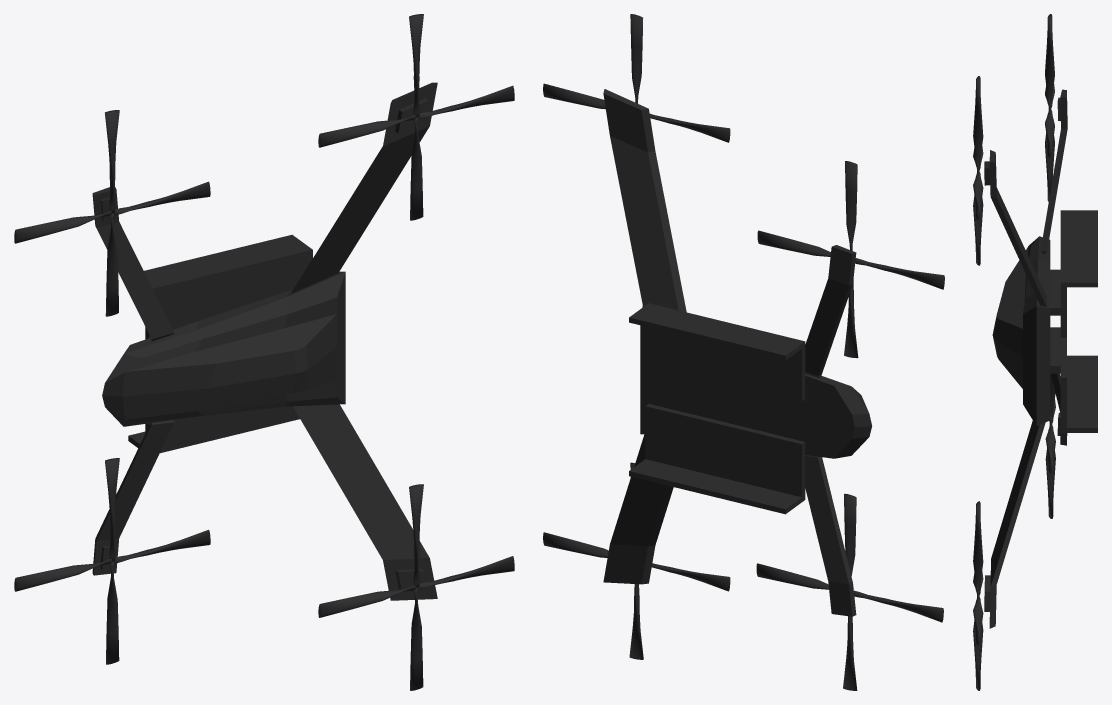
The model's file is drone.obj.
3 renders of one model, left to right at view 1: azimuth 30°, elevation 25°; view 2: azimuth 150°, elevation 25°; view 3: azimuth 270°, elevation 25°, orthographic. The views are drawn at different scales.
Visible parts, largest first — view 1: Plane.020_Plane.014; view 2: Plane.020_Plane.014; view 3: Plane.020_Plane.014.
Boxes of the visible parts, bbox=[...] form: Plane.020_Plane.014: bbox=[14, 14, 514, 690]; Plane.020_Plane.014: bbox=[543, 14, 944, 690]; Plane.020_Plane.014: bbox=[973, 14, 1097, 690].
Bounding box in the file's own units: 1.26 × 1.77 × 0.3288.
